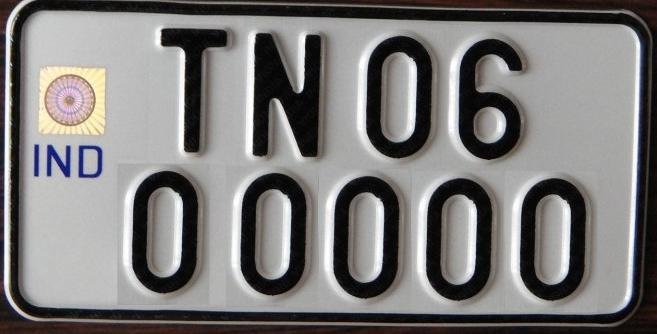0: (118, 163, 205, 298), (321, 170, 405, 300), (506, 176, 592, 301), (419, 171, 499, 303), (232, 168, 310, 297), (361, 31, 434, 158)
6: (455, 37, 525, 160)
N: (247, 30, 321, 158)
T: (155, 26, 227, 155)
